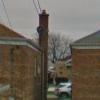Chimney: (31, 6, 51, 47)
